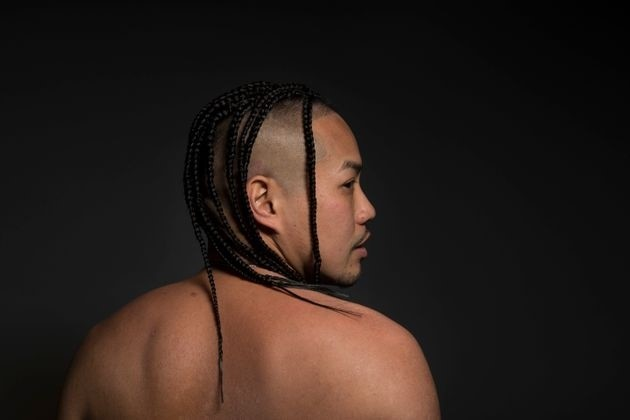face_no_mask: (184, 87, 377, 288)
